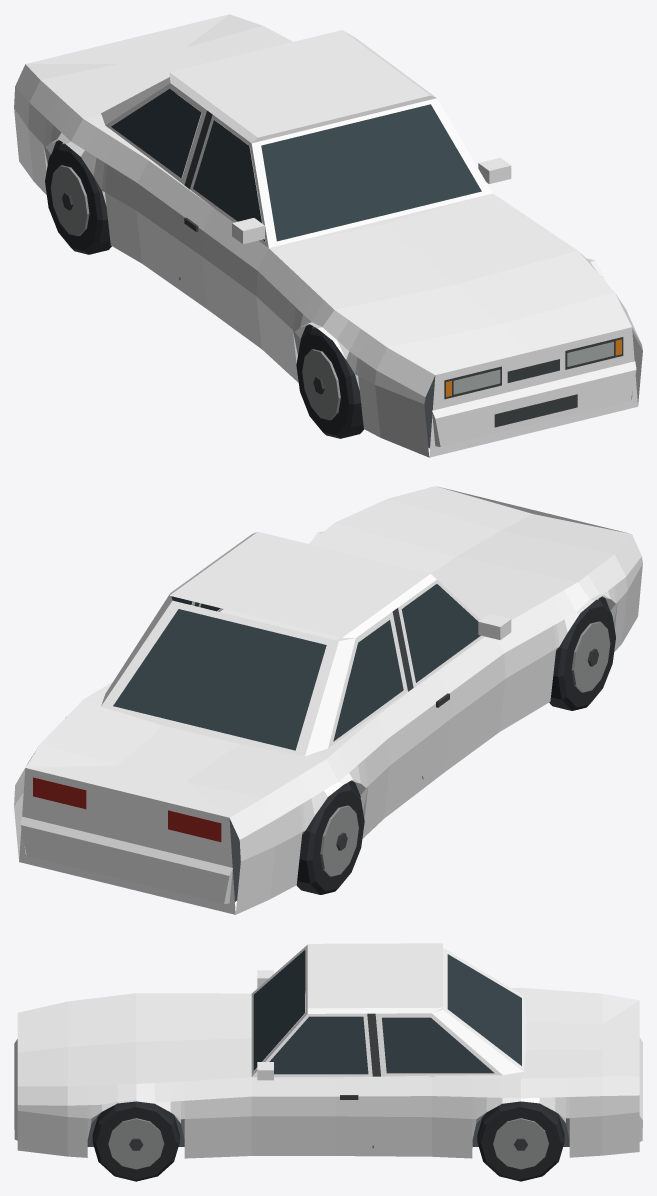
The model's file is hayase_yukimi.glb.
The picture shows the model from 3 angles, top to bottom: view 1: azimuth 30°, elevation 25°; view 2: azimuth 150°, elevation 25°; view 3: azimuth 270°, elevation 25°; orthographic projection. The views are drawn at different scales.
Visible parts, largest first — view 1: hayase_yukimi; view 2: hayase_yukimi; view 3: hayase_yukimi.
Boxes of the visible parts, bbox=[...] form: hayase_yukimi: bbox=[14, 14, 642, 457]; hayase_yukimi: bbox=[14, 486, 642, 914]; hayase_yukimi: bbox=[14, 943, 642, 1181].
Bounding box in the file's own units: 1.76 × 1.25 × 4.51.
Materials: 8 (1 with a texture image).
